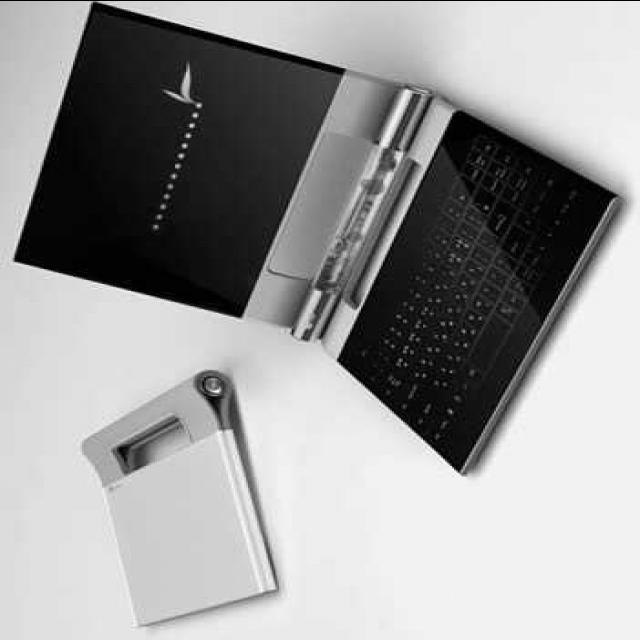laptop: (12, 0, 587, 455)
